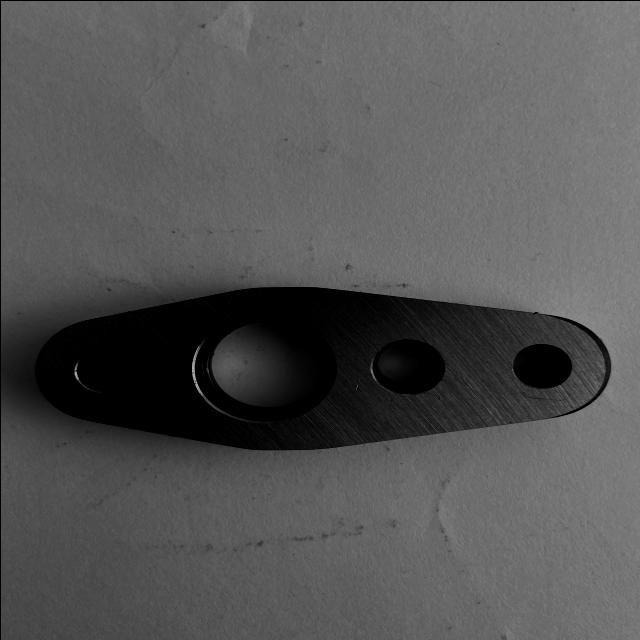chap: (352, 378, 362, 392)
lines: (520, 394, 568, 400)
